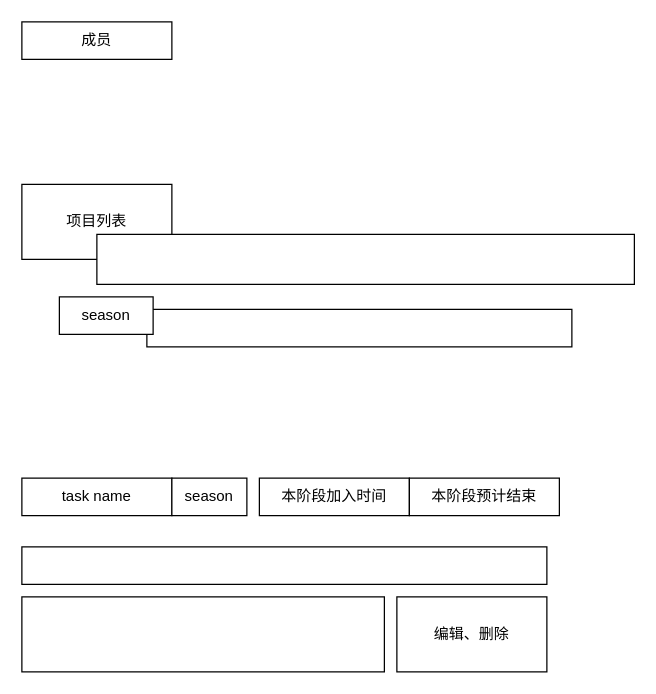
The diagram is 656 pixels wide and 694 high, and some of its shapes have lost their labels. Each missing label, with the box of its shape:
名、负责人、成员、开始: (96, 233, 634, 284)
展示: (21, 596, 384, 672)
添加：目标、进度、产出: (21, 546, 547, 584)
进度、状态、阶段、阶段开始、阶段结束: (146, 308, 572, 347)
